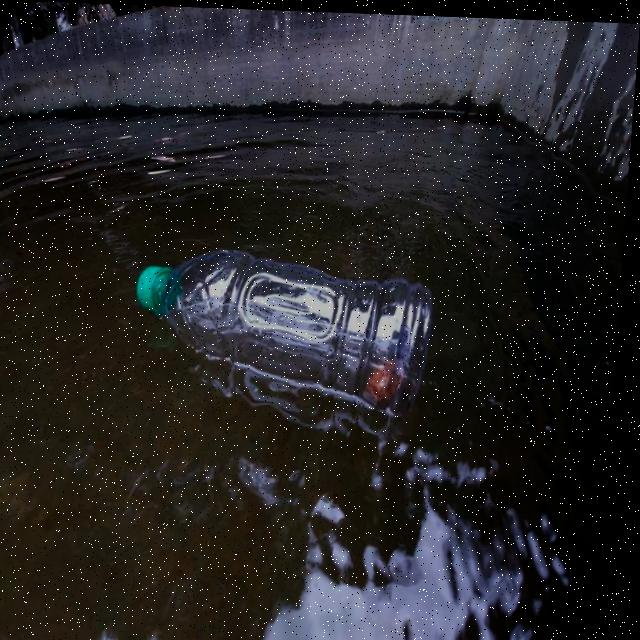waterbottle: (105, 238, 455, 437)
